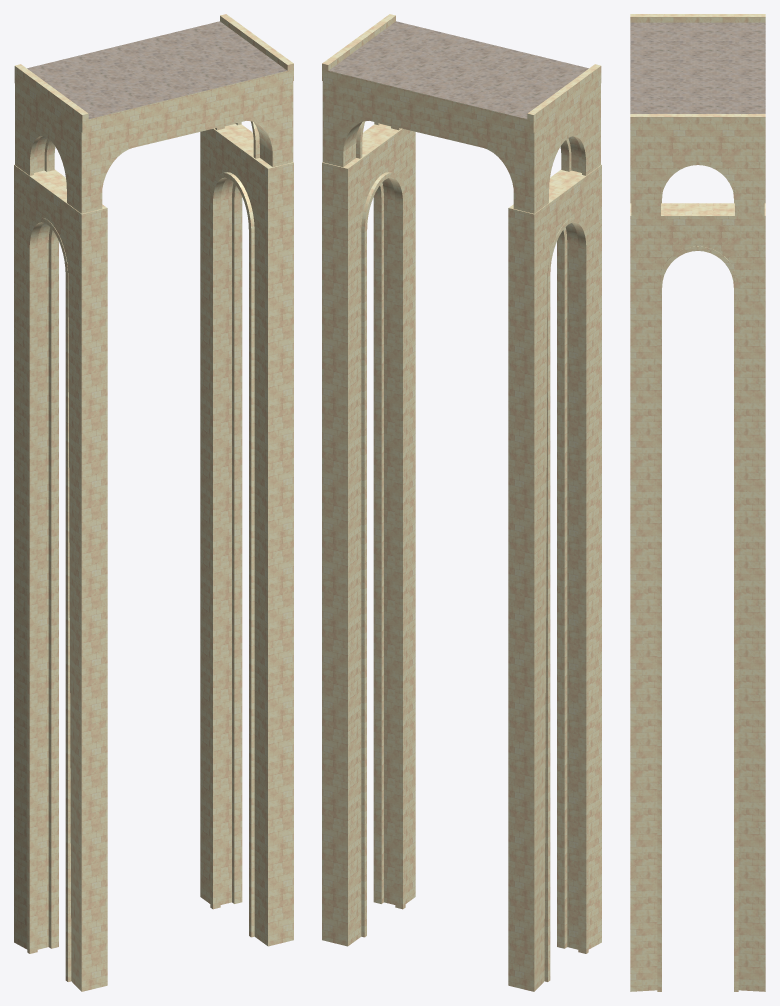
File: SM_bridge_module_02.glb
3 renders of one model, left to right at view 1: azimuth 30°, elevation 25°; view 2: azimuth 150°, elevation 25°; view 3: azimuth 270°, elevation 25°, orthographic.
Visible parts, largest first — view 1: SM_bridge_module_02; view 2: SM_bridge_module_02; view 3: SM_bridge_module_02.
Boxes of the visible parts, x1,y1,x2,y2 form: SM_bridge_module_02: (14, 14, 293, 991); SM_bridge_module_02: (322, 14, 601, 991); SM_bridge_module_02: (630, 14, 765, 991).
Size of the model in its own units: 19.98 by 78.71 by 11.01.
Materials: 2 (2 with a texture image).
